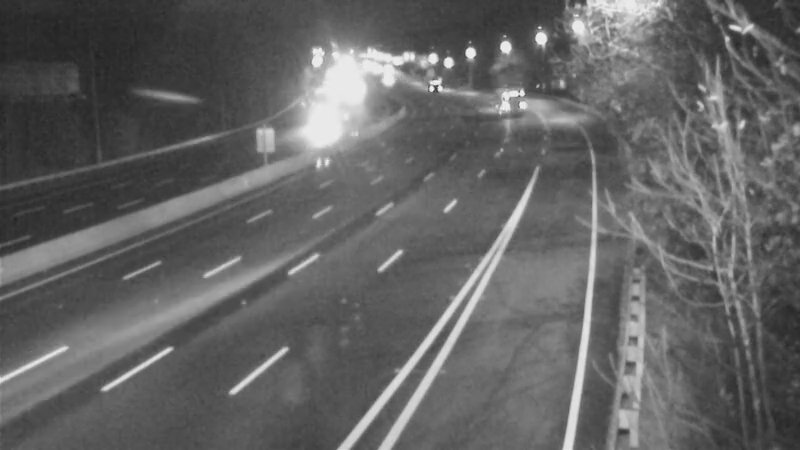vehicle: (484, 78, 534, 128), (302, 101, 352, 151)
